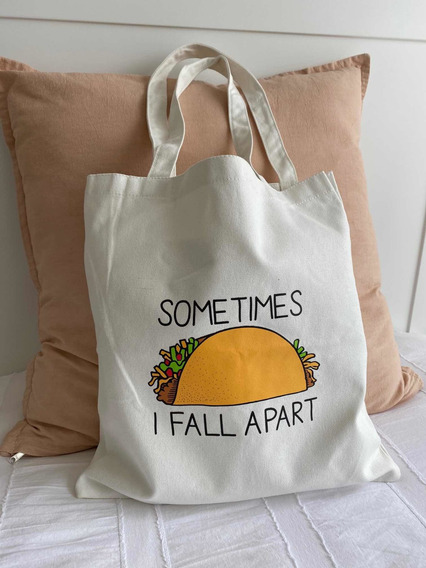cartera: (74, 41, 404, 507)
